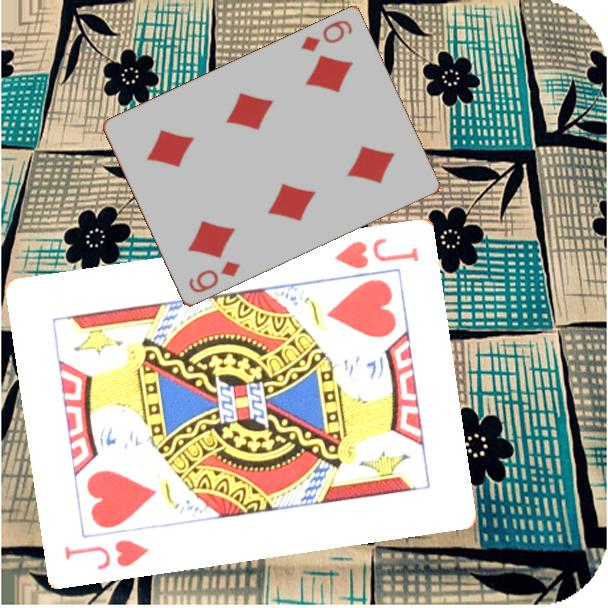d06: (185, 258, 243, 296), (297, 17, 355, 55)
h11: (331, 234, 422, 271), (61, 535, 152, 572)
